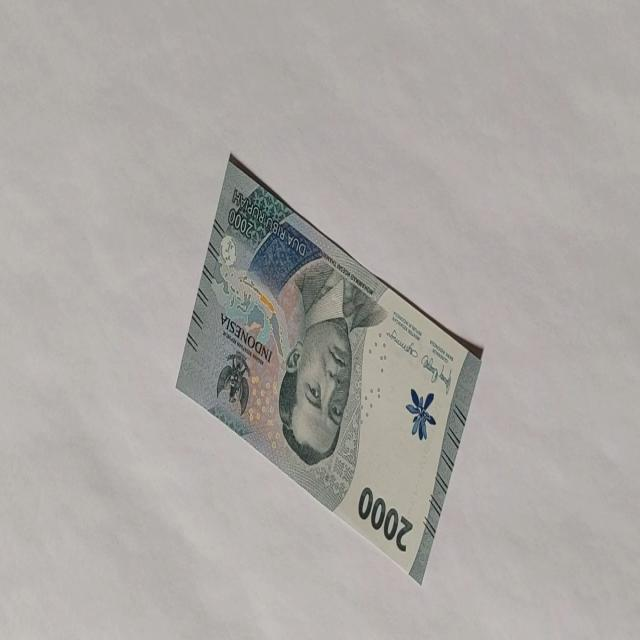dua ribu rupiah: (175, 151, 483, 587), (276, 258, 388, 467)
